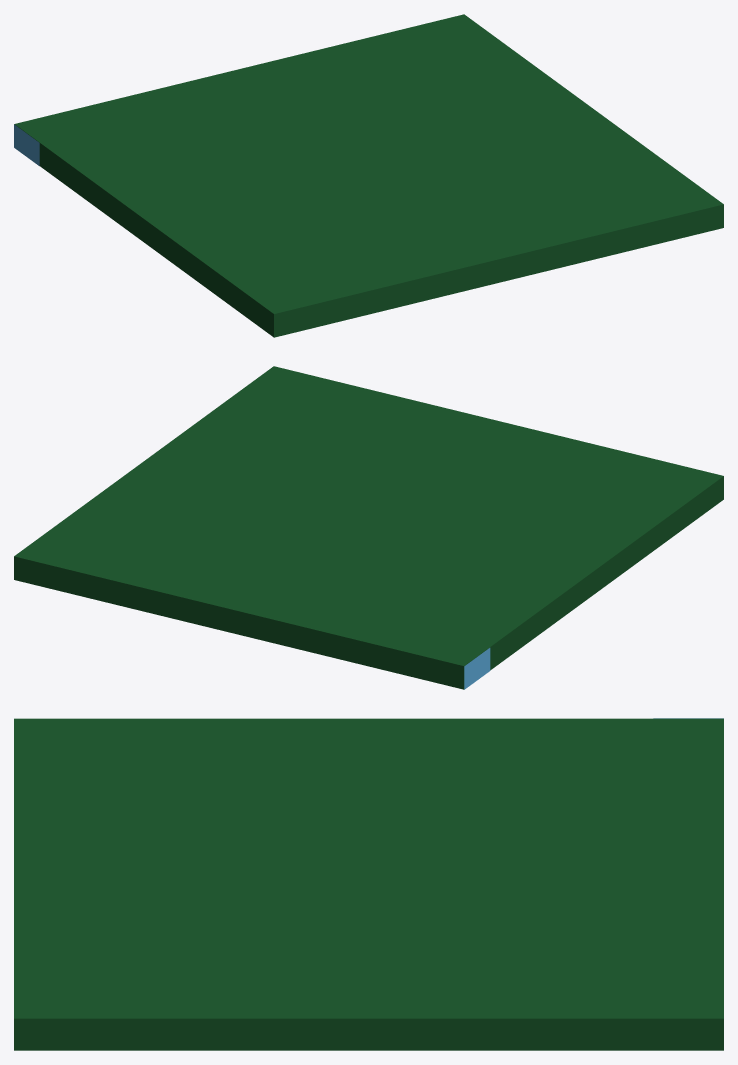
File: level.fbx
3 views of the same model, one above another, from view 1: azimuth 30°, elevation 25°; view 2: azimuth 150°, elevation 25°; view 3: azimuth 270°, elevation 25° (orthographic). The views are drawn at different scales.
Parts seen in each view (by area): view 1: Level; view 2: Level; view 3: Level.
Part boxes in pixels (bbox=[...]): Level: bbox=[14, 14, 723, 337]; Level: bbox=[14, 366, 723, 689]; Level: bbox=[14, 718, 723, 1050].
Bounding box in the file's own units: 1001 × 50 × 1000.
